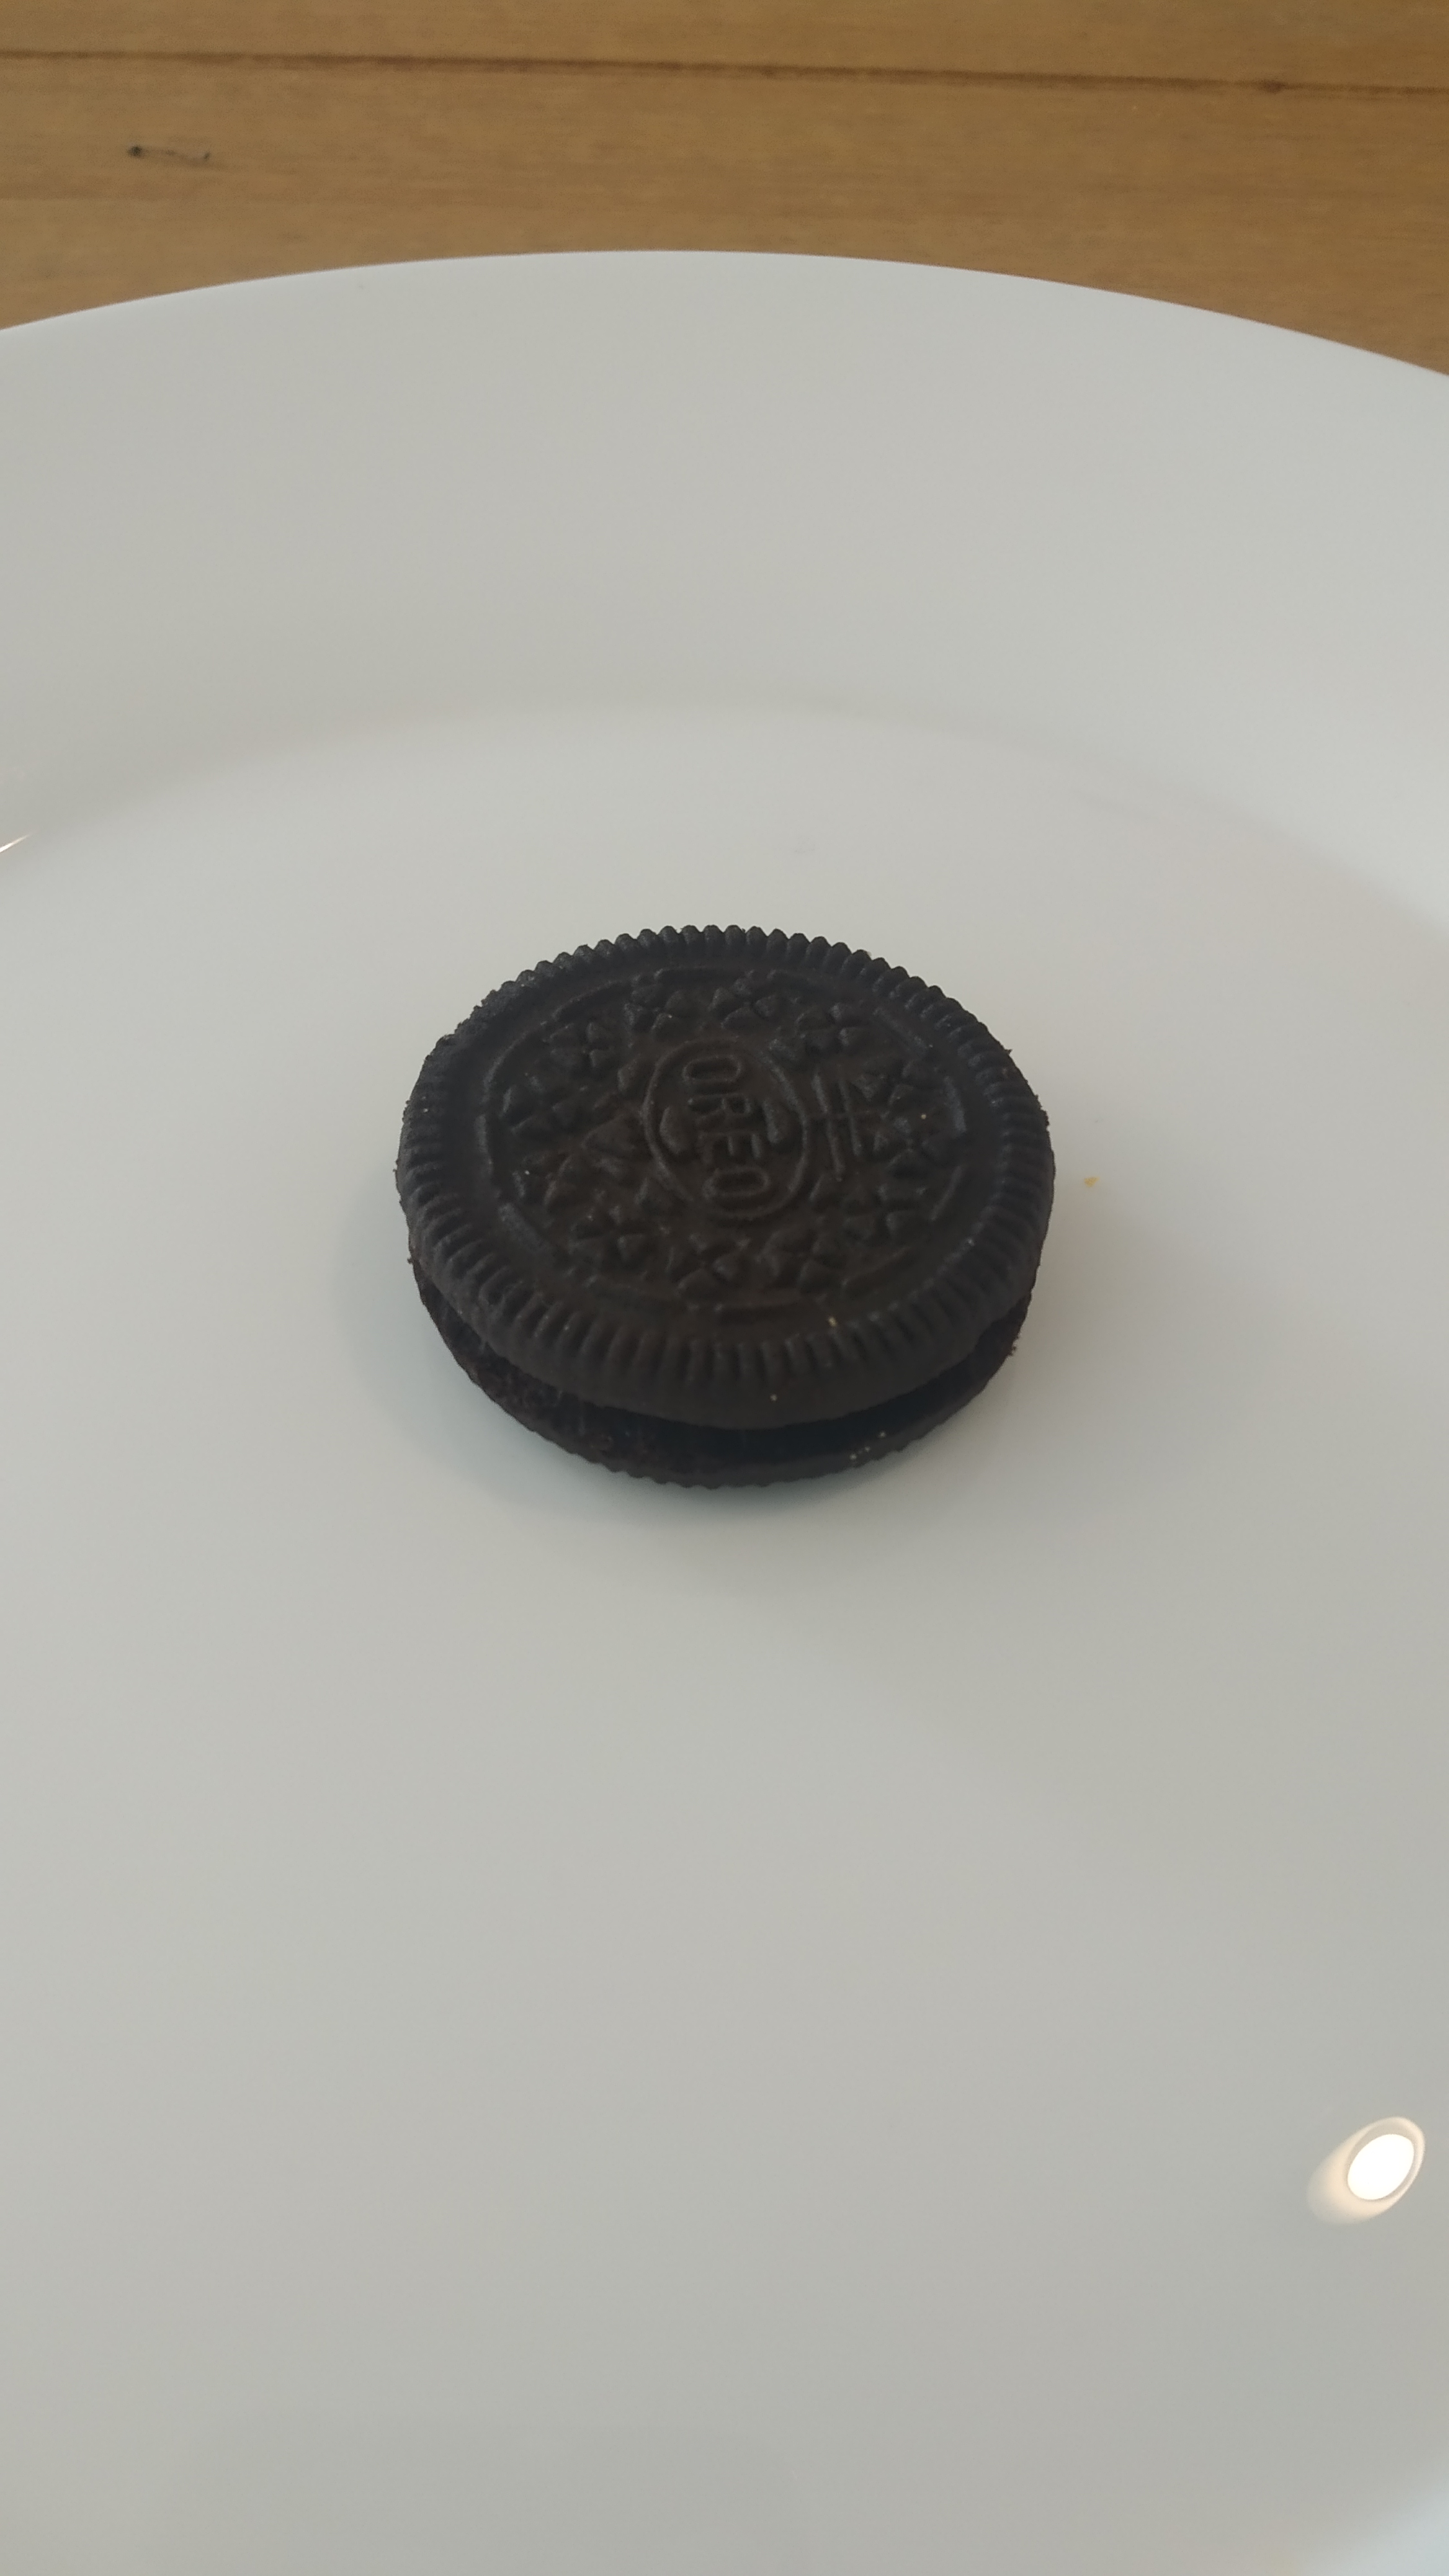oreo: (393, 922, 1060, 1493)
